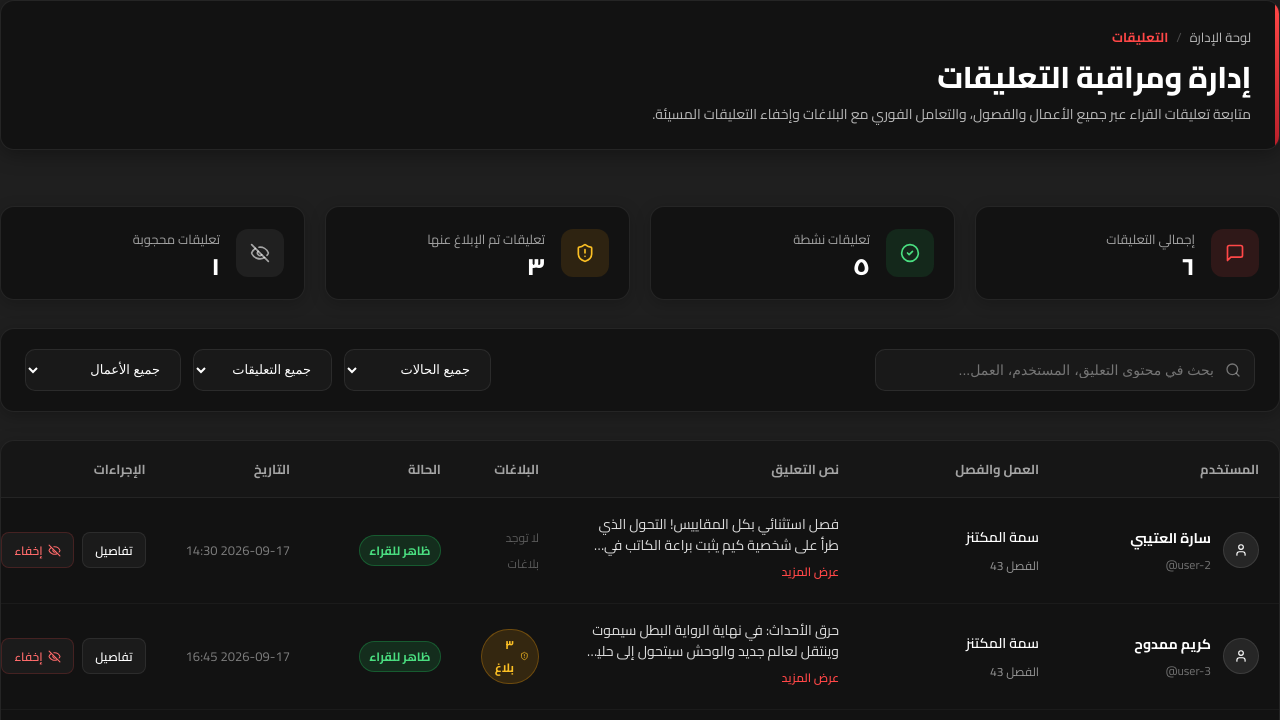
Test case: AdminComments Component › opens comment details modal and allows viewing and closing
The image size is (1280, 720).
Click the button titled "عرض التفاصيل" next to "2026-09-17 14:30". click: (114, 550)
box: [82,532,146,568]
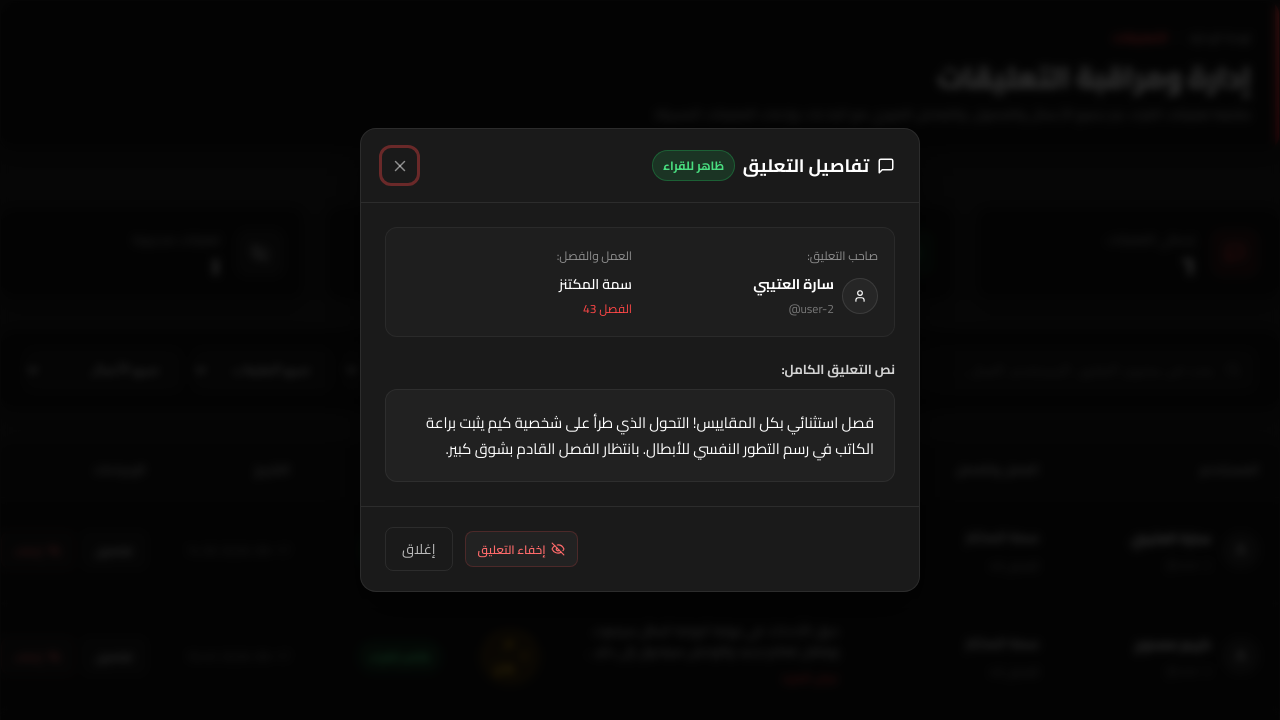
Expected: the dialog is shown
Expected: the text "تفاصيل التعليق" is shown, [743,149,869,182]
Expected: the button "إغلاق" is shown
Click the button "إغلاق". click: (419, 549)
box: [385,527,452,571]
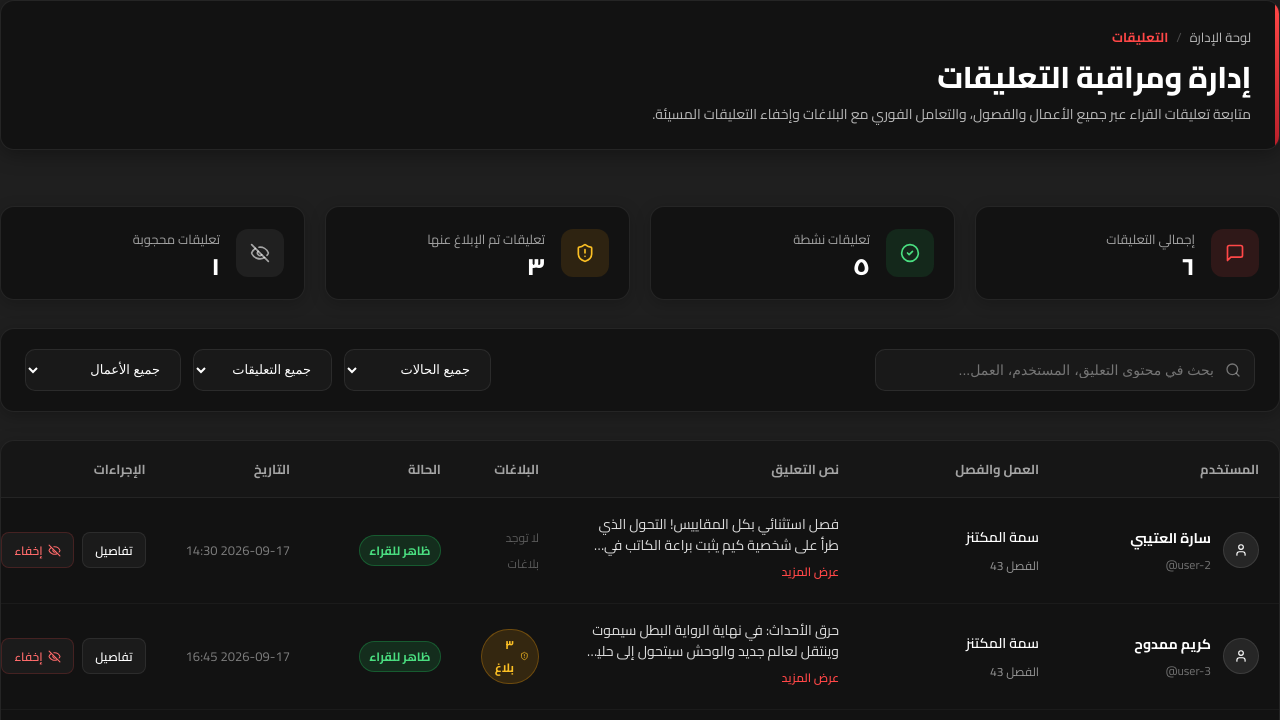
Expected: the dialog is gone
